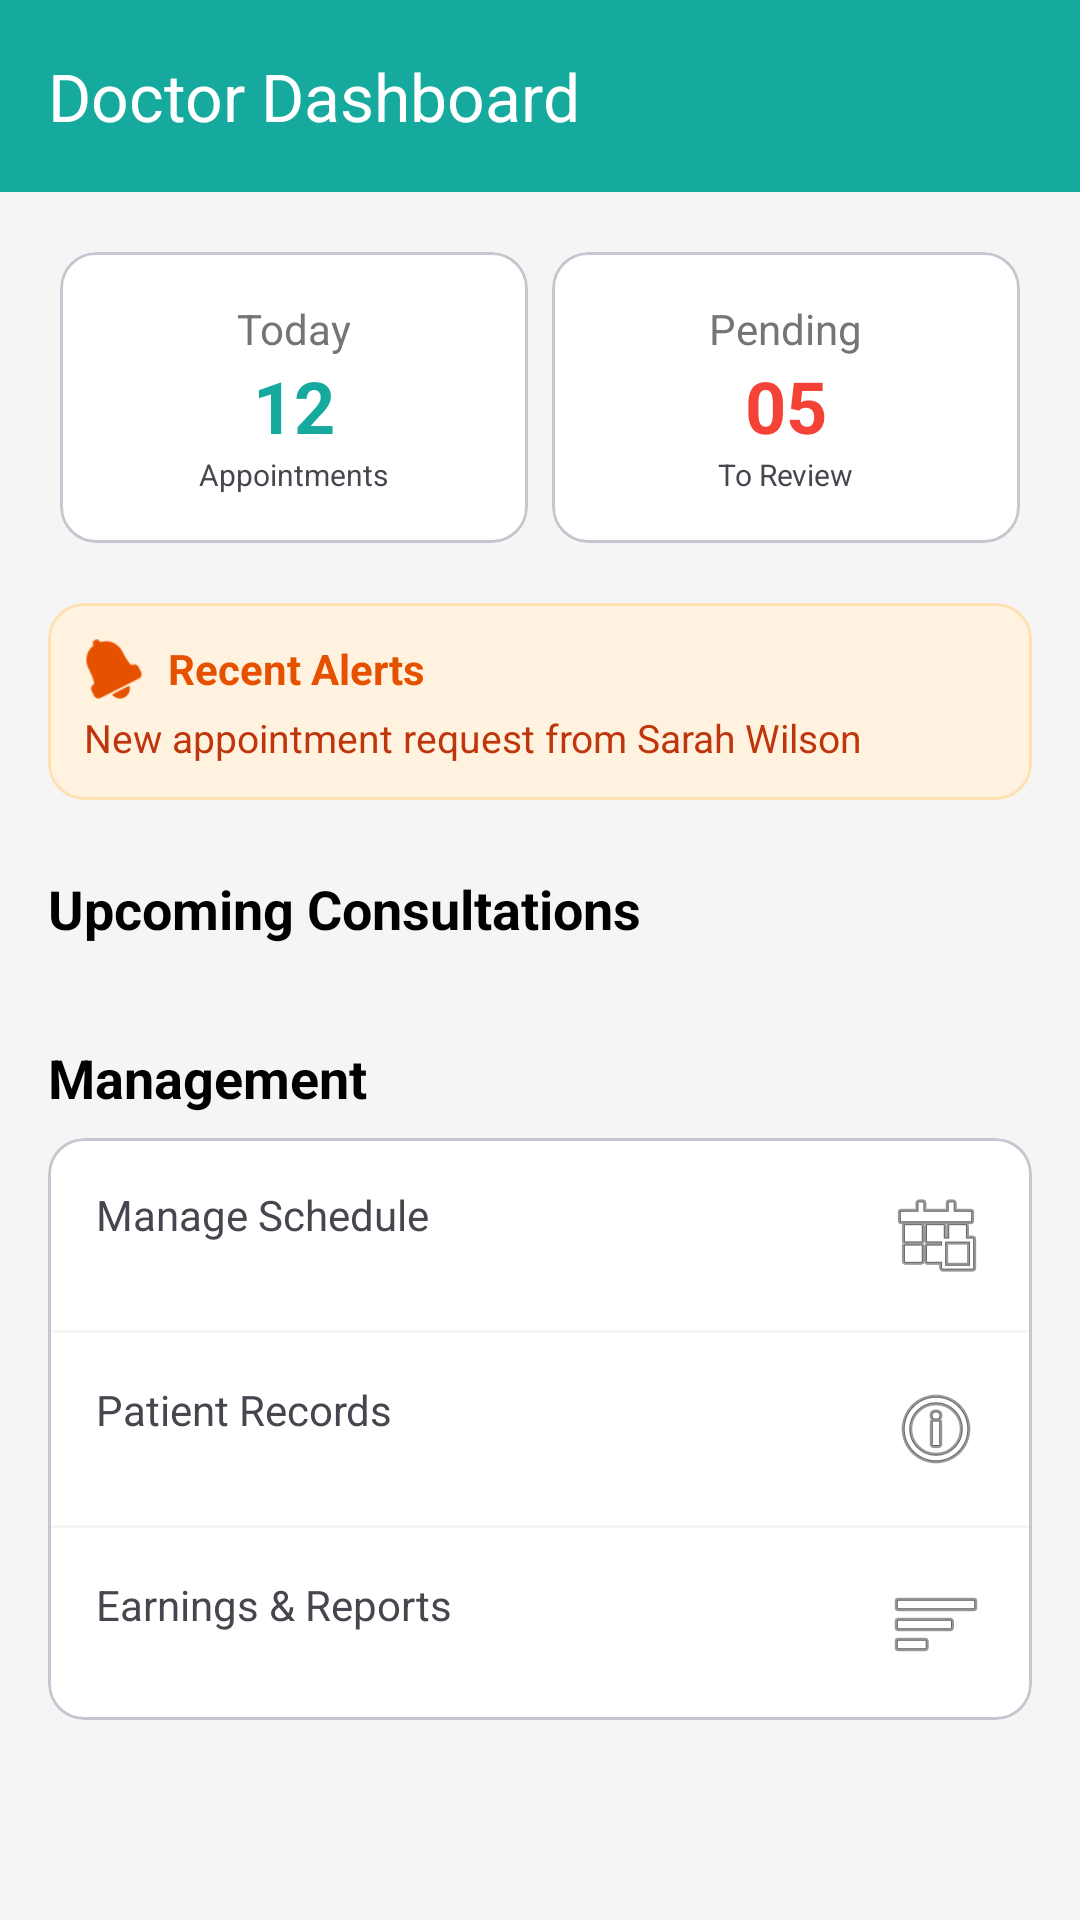

Named icons in this screenshot (1080*1920) and their bounding boxes, rect(x1, y1, x2, y2):
popup reminder: rect(86, 639, 142, 699)
